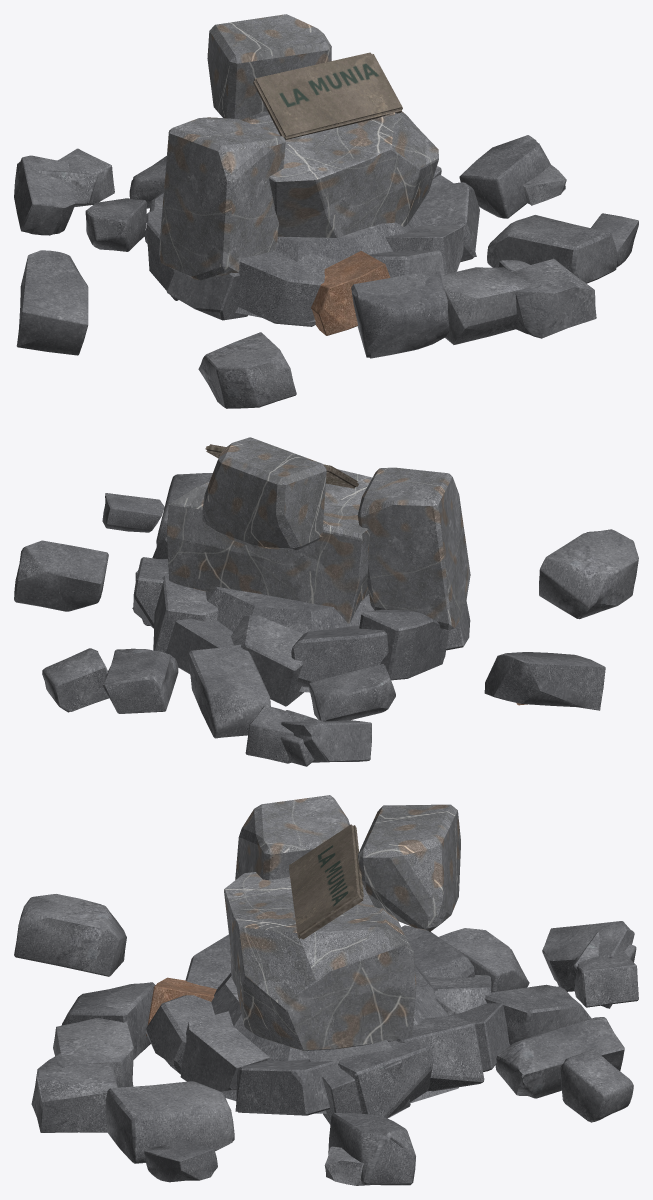
Rendered from cima-munia.glb.
The picture shows the model from 3 angles, top to bottom: view 1: azimuth 30°, elevation 25°; view 2: azimuth 150°, elevation 25°; view 3: azimuth 270°, elevation 25°; orthographic projection. The views are drawn at different scales.
Parts seen in each view (by area): view 1: hito_caliza_vetas, hito_caliza_gris, placa_munia, bloque4, bloque17, bloque8, bloque0, bloque15, bloque14, bloque5, bloque11, hito_caliza_naranja (+6 smaller); view 2: hito_caliza_vetas, hito_caliza_gris, bloque0, bloque17, bloque9, bloque5, bloque3, bloque6, bloque7, bloque11, bloque12, bloque1 (+3 smaller); view 3: hito_caliza_vetas, hito_caliza_gris, bloque8, bloque0, placa_munia, bloque3, bloque14, bloque5, bloque7, bloque15, bloque9, bloque4 (+7 smaller).
Boxes of the visible parts, bbox=[...] form: hito_caliza_vetas: bbox=[159, 14, 438, 280]; hito_caliza_gris: bbox=[144, 166, 479, 326]; placa_munia: bbox=[253, 52, 402, 139]; bloque4: bbox=[351, 270, 449, 358]; bloque17: bbox=[16, 250, 88, 355]; bloque8: bbox=[487, 215, 618, 283]; bloque0: bbox=[198, 332, 296, 408]; bloque15: bbox=[441, 267, 530, 344]; bloque14: bbox=[510, 258, 596, 338]; bloque5: bbox=[459, 135, 550, 218]; bloque11: bbox=[14, 155, 75, 235]; hito_caliza_naranja: bbox=[311, 251, 390, 335]; hito_caliza_vetas: bbox=[166, 437, 470, 630]; hito_caliza_gris: bbox=[132, 537, 470, 706]; bloque0: bbox=[539, 529, 638, 619]; bloque17: bbox=[484, 652, 605, 710]; bloque9: bbox=[188, 644, 270, 738]; bloque5: bbox=[14, 540, 108, 611]; bloque3: bbox=[102, 648, 178, 713]; bloque6: bbox=[308, 664, 395, 721]; bloque7: bbox=[42, 648, 109, 712]; bloque11: bbox=[281, 720, 371, 762]; bloque12: bbox=[102, 493, 164, 532]; bloque1: bbox=[245, 705, 293, 763]; hito_caliza_vetas: bbox=[224, 795, 460, 1050]; hito_caliza_gris: bbox=[145, 925, 509, 1124]; bloque8: bbox=[105, 1081, 234, 1163]; bloque0: bbox=[14, 894, 126, 976]; placa_munia: bbox=[289, 824, 363, 939]; bloque3: bbox=[495, 1017, 624, 1098]; bloque14: bbox=[31, 1053, 117, 1132]; bloque5: bbox=[328, 1113, 415, 1185]; bloque7: bbox=[560, 1049, 633, 1122]; bloque15: bbox=[53, 1018, 133, 1087]; bloque9: bbox=[484, 984, 591, 1045]; bloque4: bbox=[61, 982, 155, 1059].
Bounding box in the file's own units: 3.51 × 1.34 × 3.08.
Materials: 4 (4 with a texture image).
